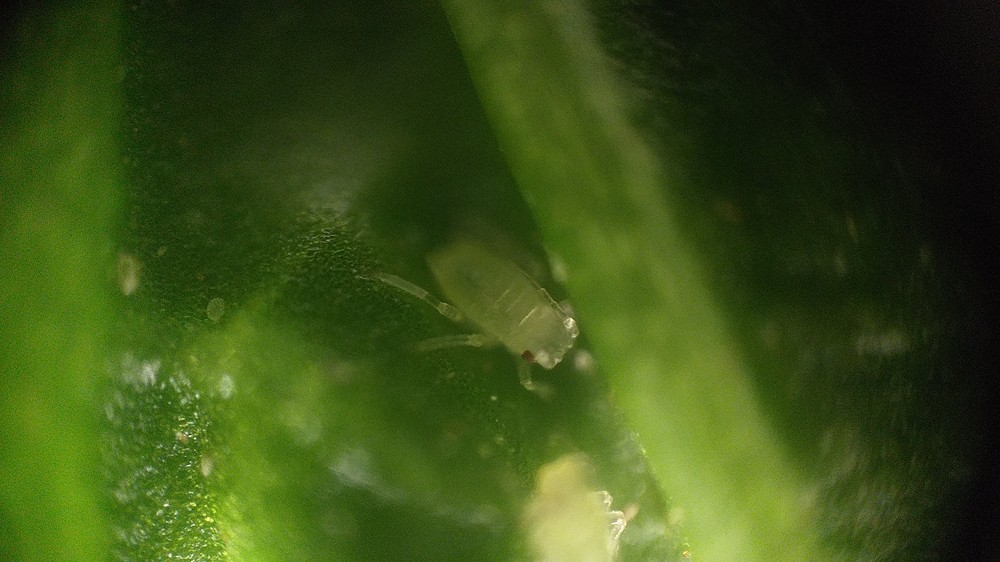Pulgon: (364, 188, 605, 404)
